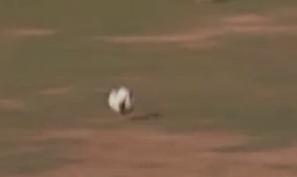ball: (104, 82, 138, 116)
